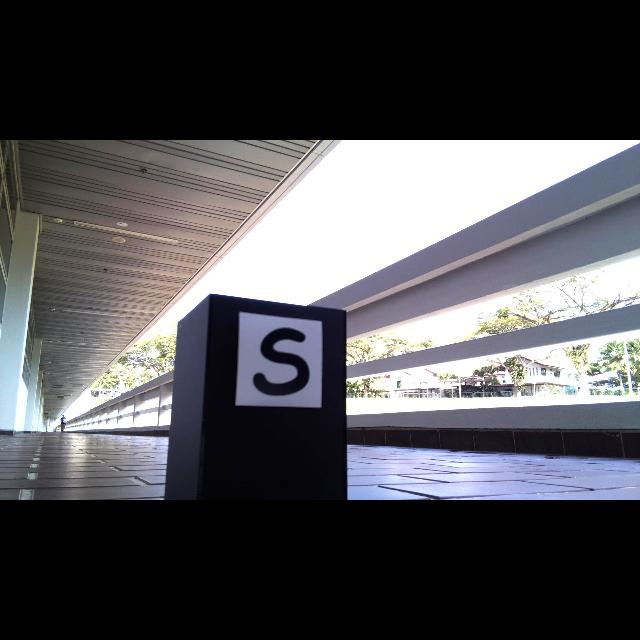S: (251, 328, 309, 397)
